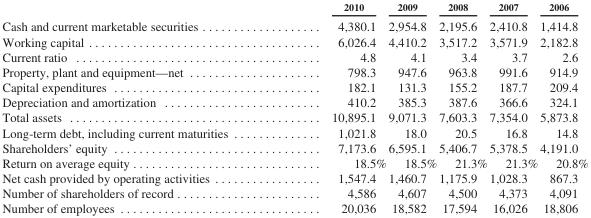table: (1, 0, 587, 215)
table column: (1, 0, 279, 215), (279, 0, 386, 215), (386, 0, 437, 215), (487, 0, 538, 215), (437, 0, 487, 215), (538, 0, 587, 215)
table column header: (1, 0, 587, 15)
table row: (1, 15, 587, 33), (1, 48, 587, 64), (1, 154, 587, 170), (1, 0, 587, 15), (1, 33, 587, 48), (1, 64, 587, 79), (1, 79, 587, 94), (1, 94, 587, 109), (1, 109, 587, 124), (1, 124, 587, 139), (1, 139, 587, 154), (1, 170, 587, 185), (1, 185, 587, 200), (1, 200, 587, 215)
